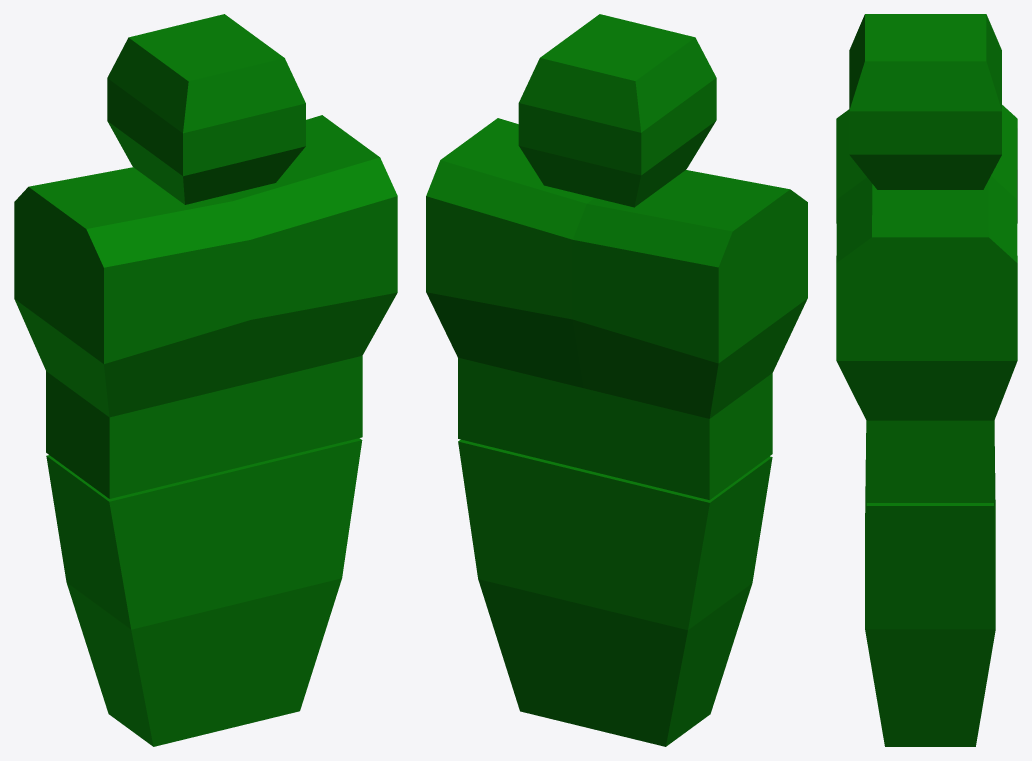
Rendered from Target_Green.fbx.
3 views of the same model, side by side, from view 1: azimuth 30°, elevation 25°; view 2: azimuth 150°, elevation 25°; view 3: azimuth 270°, elevation 25° (orthographic).
Visible parts, largest first — view 1: Cube.004, Cube.003, Cube.005; view 2: Cube.004, Cube.003, Cube.005; view 3: Cube.004, Cube.003, Cube.005.
Part boxes in pixels (x1,y1,x2,y2): Cube.004: [14, 115, 397, 498]; Cube.003: [46, 438, 362, 746]; Cube.005: [107, 14, 305, 204]; Cube.004: [426, 118, 807, 499]; Cube.003: [458, 439, 772, 746]; Cube.005: [518, 14, 716, 207]; Cube.004: [836, 105, 1017, 502]; Cube.003: [865, 420, 995, 746]; Cube.005: [849, 14, 1001, 189].
Bounding box in the file's own units: 175 × 380 × 92.66.
